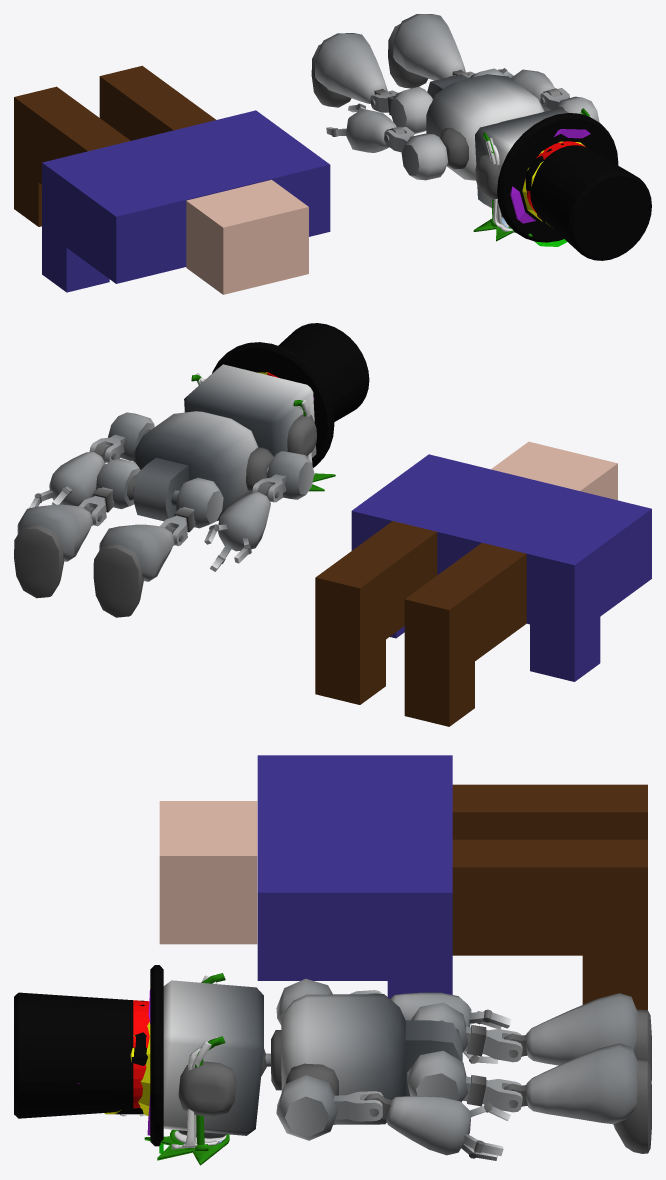
Rendered from robot grappige bril (1).fbx.
3 renders of one model, top to bottom at view 1: azimuth 30°, elevation 25°; view 2: azimuth 150°, elevation 25°; view 3: azimuth 270°, elevation 25°, orthographic. The views are drawn at different scales.
Parts seen in each view (by area): view 1: Torso.001, GentlemanHat.001, Legs.001, R1_Arm.R, Head.001, R1_Leg.R, R1_Head, WizardHat.001, 8; view 2: Torso.001, Legs.001, R1_Arm.R, R1_Leg.R, GentlemanHat.001, R1_Head, Head.001; view 3: Torso.001, Legs.001, R1_Arm.R, R1_Leg.R, GentlemanHat.001, Head.001, R1_Head, 8, WizardHat.001, Pirate Hat.001.
Part boxes in pixels (left/top/right/bottom): Torso.001: left=42, top=110, right=330, bottom=292; GentlemanHat.001: left=497, top=113, right=651, bottom=260; Legs.001: left=14, top=65, right=215, bottom=226; R1_Arm.R: left=326, top=68, right=599, bottom=180; Head.001: left=186, top=179, right=308, bottom=294; R1_Leg.R: left=311, top=14, right=505, bottom=133; R1_Head: left=475, top=108, right=568, bottom=217; WizardHat.001: left=510, top=129, right=590, bottom=223; 8: left=473, top=108, right=589, bottom=241; Torso.001: left=351, top=454, right=651, bottom=681; Legs.001: left=315, top=521, right=526, bottom=726; R1_Arm.R: left=29, top=411, right=314, bottom=571; R1_Leg.R: left=14, top=458, right=223, bottom=617; GentlemanHat.001: left=212, top=323, right=369, bottom=467; R1_Head: left=184, top=364, right=316, bottom=457; Head.001: left=491, top=441, right=617, bottom=500; Torso.001: left=257, top=755, right=452, bottom=998; Legs.001: left=452, top=784, right=647, bottom=1009; R1_Arm.R: left=265, top=978, right=510, bottom=1160; R1_Leg.R: left=407, top=993, right=651, bottom=1153; GentlemanHat.001: left=14, top=965, right=163, bottom=1146; Head.001: left=159, top=801, right=257, bottom=944; R1_Head: left=163, top=980, right=267, bottom=1138; 8: left=144, top=973, right=229, bottom=1165; WizardHat.001: left=78, top=989, right=150, bottom=1135; Pirate Hat.001: left=104, top=1000, right=147, bottom=1116.
Size of the model in its own units: 2.6 by 0.7006 by 2.15.
